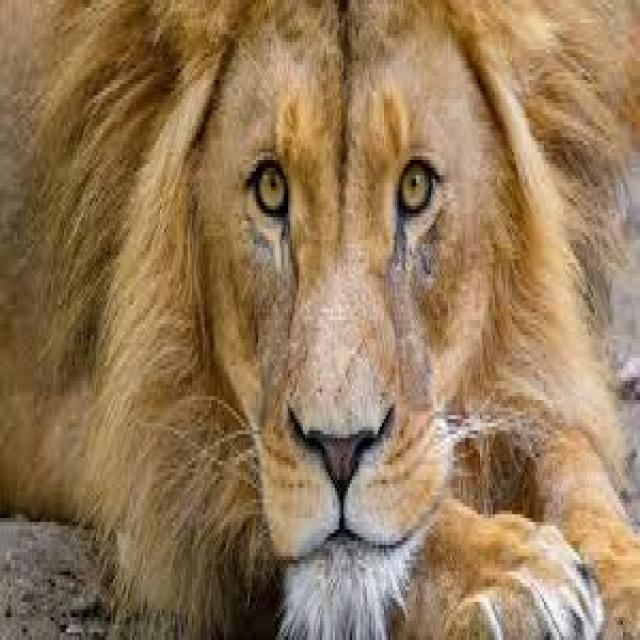Lion: (3, 0, 638, 633)
